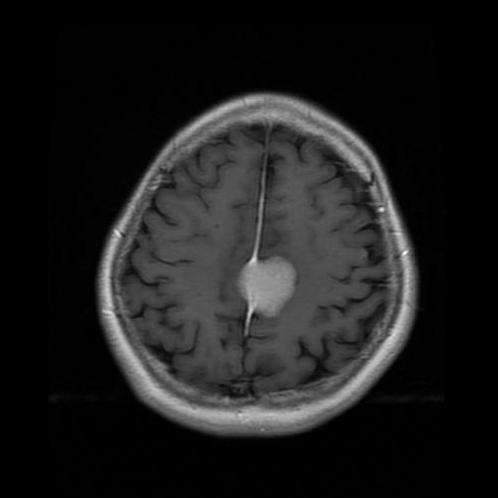Tumour-Meningioma: (221, 237, 325, 338)
